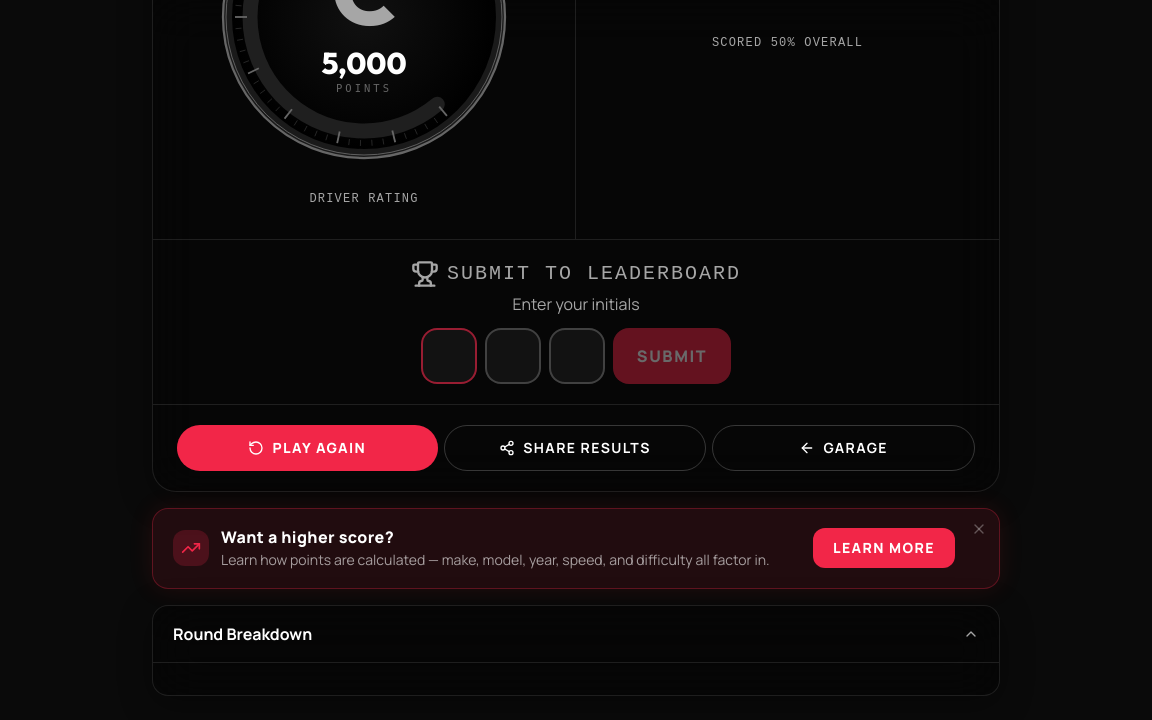
it: ResultsScreen › with session token (hasToken = true) › shows 'Copied!' after share button is clicked
(page scrolled)
Click the button "Share Results" at point(575, 448), box [444,425,706,471]
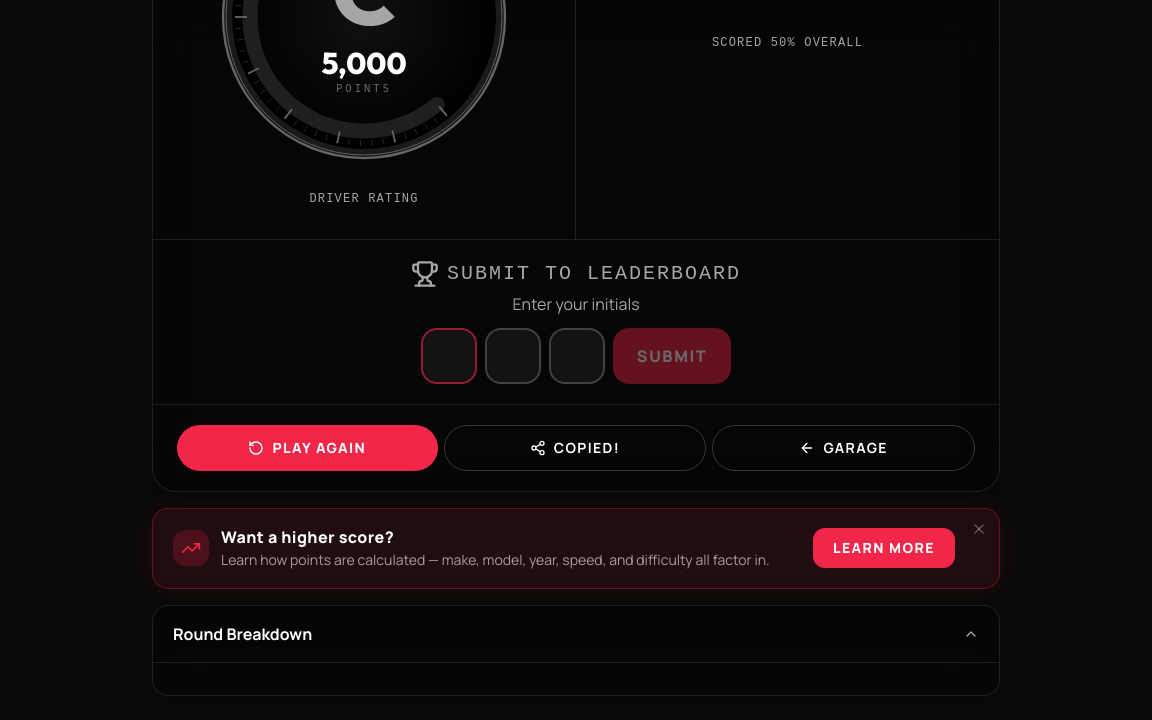
Result: the button "Copied!" is shown at [444,425,706,471]
